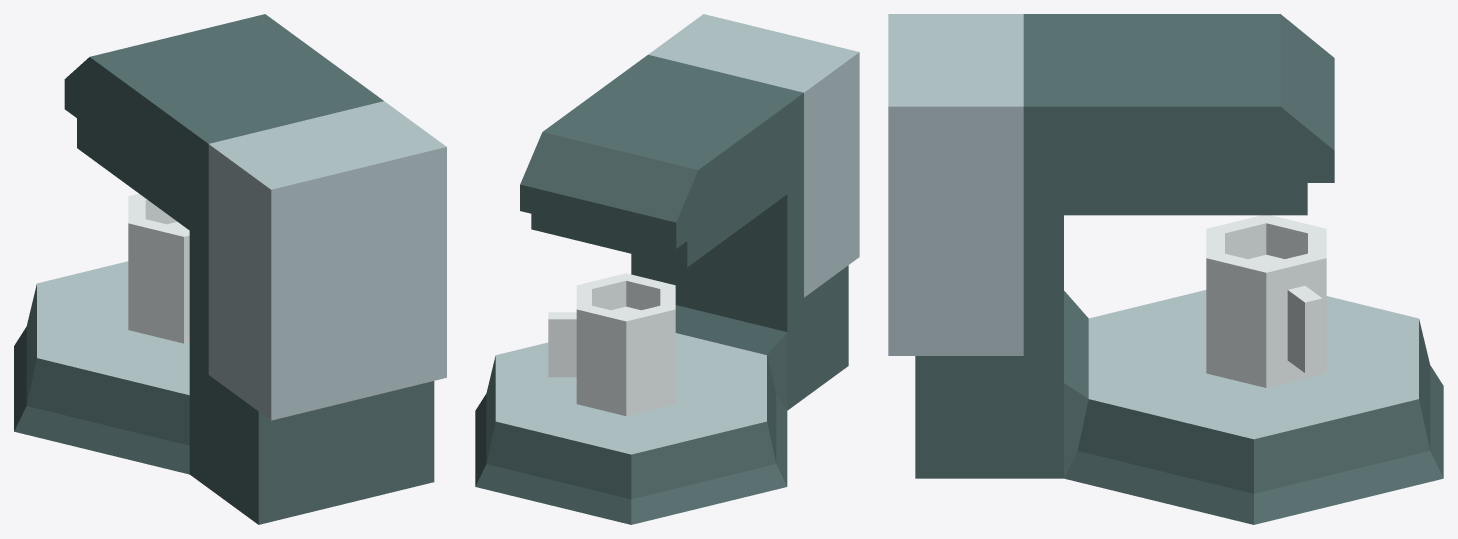
Rendered from coffee_machine.glb.
3 views of the same model, side by side, from view 1: azimuth 30°, elevation 25°; view 2: azimuth 150°, elevation 25°; view 3: azimuth 270°, elevation 25° (orthographic). The views are drawn at different scales.
Visible parts, largest first — view 1: kitchenCoffeeMachine, mug; view 2: kitchenCoffeeMachine, mug; view 3: kitchenCoffeeMachine, mug.
Boxes of the visible parts, bbox=[...] form: kitchenCoffeeMachine: bbox=[14, 14, 446, 524]; mug: bbox=[128, 193, 189, 343]; kitchenCoffeeMachine: bbox=[475, 14, 859, 524]; mug: bbox=[548, 273, 675, 416]; kitchenCoffeeMachine: bbox=[888, 14, 1443, 524]; mug: bbox=[1206, 215, 1326, 387].
Size of the model in its own units: 0.1895 by 0.1775 by 0.2402.
